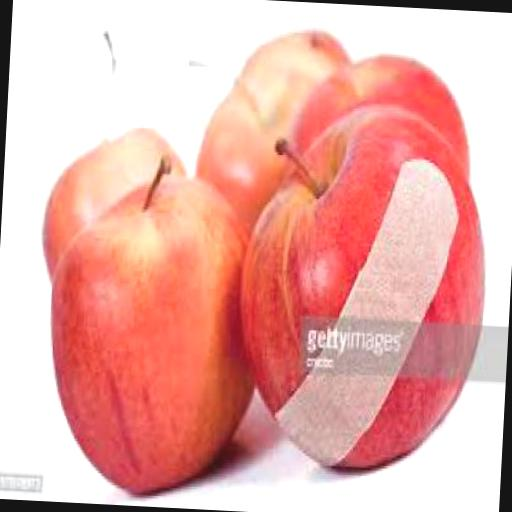biodegradable: (232, 94, 492, 473), (38, 146, 264, 500), (180, 22, 348, 236), (289, 46, 474, 193), (37, 120, 186, 290)
